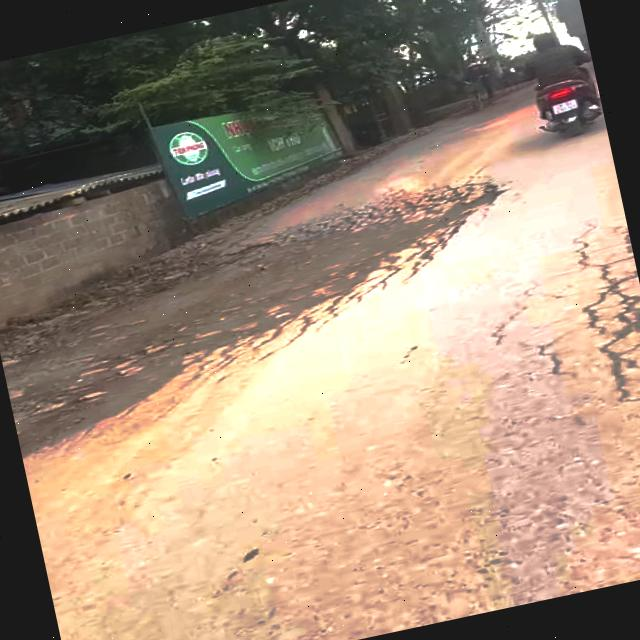pothole: (0, 169, 537, 461)
